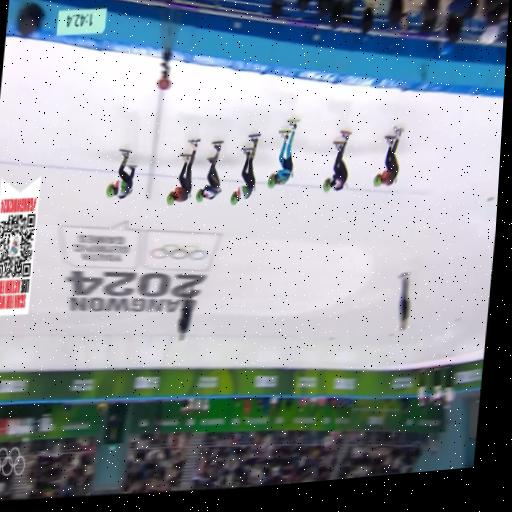Skater: (166, 139, 198, 205), (230, 134, 259, 204), (267, 120, 296, 187), (373, 127, 402, 186), (323, 130, 350, 191), (195, 141, 221, 201), (106, 149, 135, 198)
